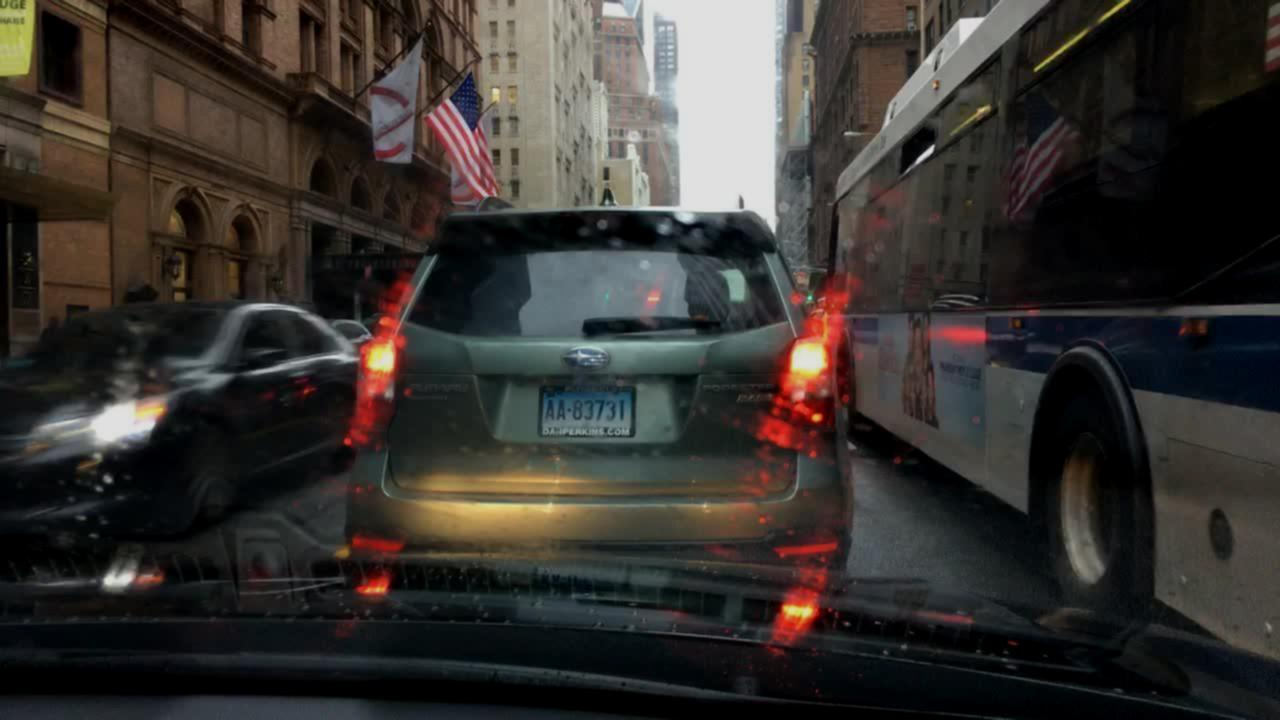subaru: (549, 333, 614, 371)
